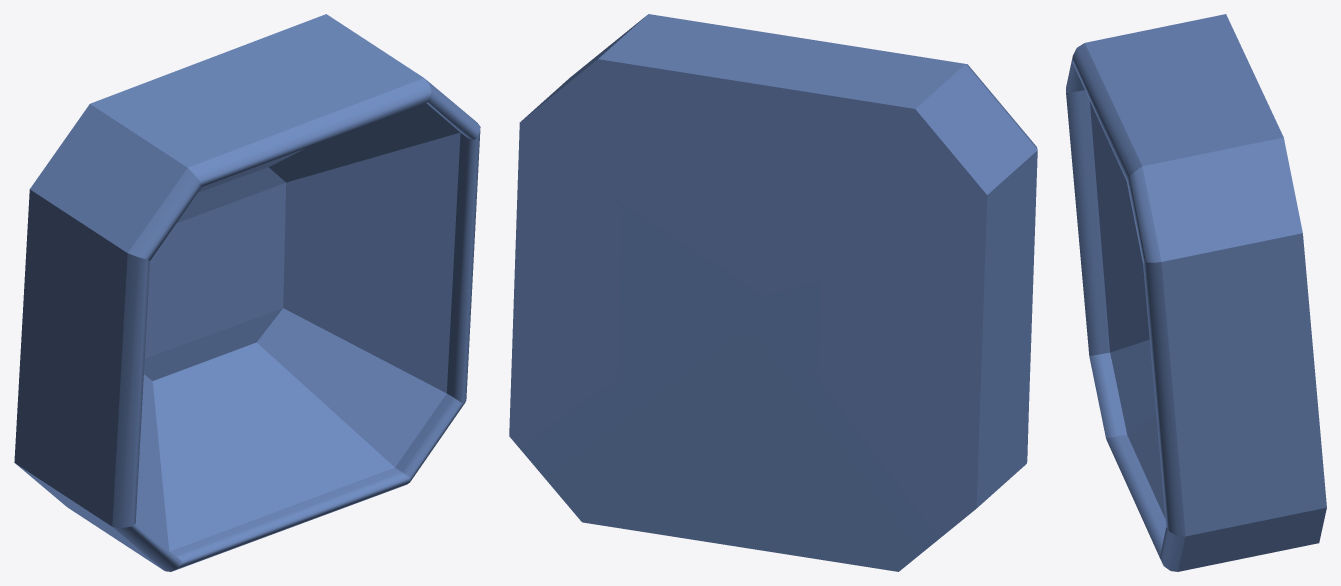
The model's file is TR1_8shapes_Square_Classic_Metal.001 2.glb.
3 renders of one model, left to right at view 1: azimuth 30°, elevation 25°; view 2: azimuth 150°, elevation 25°; view 3: azimuth 270°, elevation 25°, orthographic. The views are drawn at different scales.
Visible parts, largest first — view 1: TR1_8shapes_Square_Classic_Metal.001; view 2: TR1_8shapes_Square_Classic_Metal.001; view 3: TR1_8shapes_Square_Classic_Metal.001.
Part boxes in pixels (x1,y1,x2,y2): TR1_8shapes_Square_Classic_Metal.001: (14,14,480,571); TR1_8shapes_Square_Classic_Metal.001: (509,14,1037,571); TR1_8shapes_Square_Classic_Metal.001: (1066,14,1326,571).
Bounding box in the file's own units: 0.6081 × 0.6033 × 0.3349.
